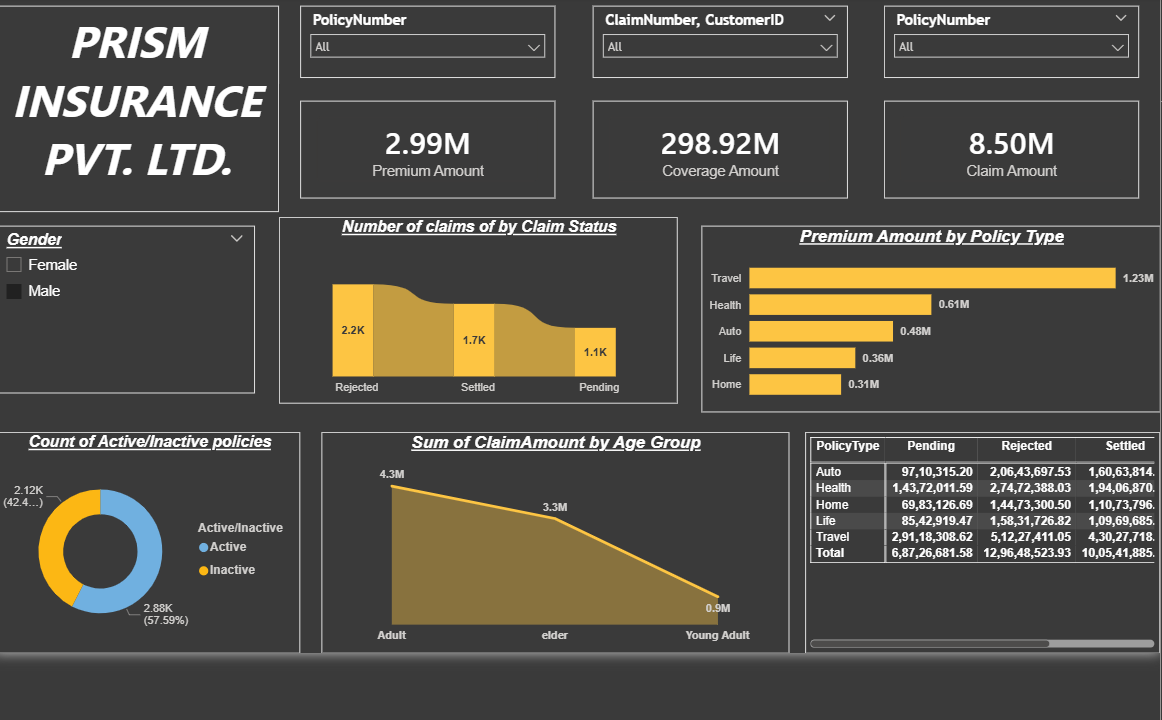

The dashboard page shown, as its layout file describes it:
{"tool":"powerbi","page":{"name":"Page 1","canvas":[1280,720],"ordinal":0},"visuals":[{"type":"slicer","fields":{"Values":["InsuranceData.PolicyNumber"]},"box":[336.2,9.6,279.9,79.6],"z":0},{"type":"slicer","fields":{"Values":["InsuranceData.PolicyNumber"]},"box":[977,9.6,279.9,79.6],"z":1000},{"type":"slicer","fields":{"Values":["InsuranceData.ClaimNumber","InsuranceData.CustomerID"]},"box":[657.3,9.6,279.9,79.6],"z":2000},{"type":"textbox","box":[0,9.6,312.9,226.4],"z":3000},{"type":"cardVisual","fields":{"Data":["Sum(InsuranceData.PremiumAmount)"]},"box":[336.2,113.9,279.9,107],"z":4000},{"type":"cardVisual","fields":{"Data":["Sum(InsuranceData.CoverageAmount)"]},"box":[657.3,113.9,279.9,107],"z":5000},{"type":"cardVisual","fields":{"Data":["Sum(InsuranceData.ClaimAmount)"]},"box":[977,113.9,279.9,107],"z":6000},{"type":"ribbonChart","title":"Number of claims of  by Claim Status","fields":{"Y":["CountNonNull(InsuranceData.ClaimStatus)"],"Category":["InsuranceData.ClaimStatus"]},"box":[312.9,241.5,437.7,204.5],"z":7000},{"type":"barChart","title":" Premium Amount by Policy Type","fields":{"Category":["InsuranceData.PolicyType"],"Y":["Sum(InsuranceData.PremiumAmount)"]},"box":[776.7,251.1,503.6,204.5],"z":8000},{"type":"lineChart","fields":{"Category":["InsuranceData.Age Group"],"Y":["Sum(InsuranceData.ClaimAmount)"]},"box":[359.5,477.5,513.2,242.9],"z":9000},{"type":"donutChart","title":"Count of Active/Inactive policies","fields":{"Category":["InsuranceData.Active/Inactive"],"Y":["CountNonNull(InsuranceData.Active/Inactive)"]},"box":[4.1,477.5,332.1,242.9],"z":10000},{"type":"pivotTable","fields":{"Rows":["InsuranceData.PolicyType"],"Values":["Sum(InsuranceData.CoverageAmount)"],"Columns":["InsuranceData.ClaimStatus"]},"box":[890.6,477.5,389.7,242.9],"z":11000},{"type":"slicer","fields":{"Values":["InsuranceData.Gender"]},"box":[0,251.1,286.8,183.9],"z":12000}]}

Visuals, with their boxes on the page's 1280x720 design canvas (x1, y1, x2, y2). These are canvas units, not pixel positions in the 1162x720 screenshot, which may show the page scaled, cropped or inside an application window:
slicer - InsuranceData.PolicyNumber: {"x1": 336, "y1": 10, "x2": 616, "y2": 89}
slicer - InsuranceData.PolicyNumber: {"x1": 977, "y1": 10, "x2": 1257, "y2": 89}
slicer - InsuranceData.ClaimNumber x InsuranceData.CustomerID: {"x1": 657, "y1": 10, "x2": 937, "y2": 89}
textbox: {"x1": 0, "y1": 10, "x2": 313, "y2": 236}
cardVisual - Sum(InsuranceData.PremiumAmount): {"x1": 336, "y1": 114, "x2": 616, "y2": 221}
cardVisual - Sum(InsuranceData.CoverageAmount): {"x1": 657, "y1": 114, "x2": 937, "y2": 221}
cardVisual - Sum(InsuranceData.ClaimAmount): {"x1": 977, "y1": 114, "x2": 1257, "y2": 221}
"Number of claims of  by Claim Status" ribbonChart: {"x1": 313, "y1": 242, "x2": 751, "y2": 446}
" Premium Amount by Policy Type" barChart: {"x1": 777, "y1": 251, "x2": 1280, "y2": 456}
lineChart - InsuranceData.Age Group x Sum(InsuranceData.ClaimAmount): {"x1": 360, "y1": 478, "x2": 873, "y2": 720}
"Count of Active/Inactive policies" donutChart: {"x1": 4, "y1": 478, "x2": 336, "y2": 720}
pivotTable - InsuranceData.PolicyType x Sum(InsuranceData.CoverageAmount): {"x1": 891, "y1": 478, "x2": 1280, "y2": 720}
slicer - InsuranceData.Gender: {"x1": 0, "y1": 251, "x2": 287, "y2": 435}
